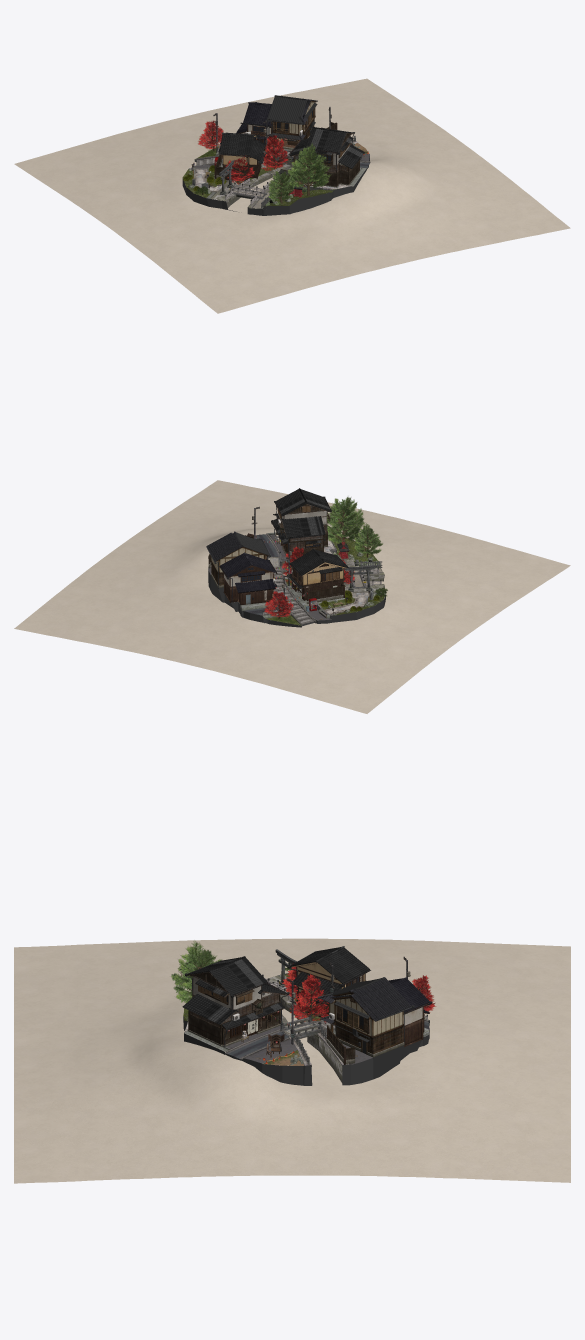
Rendered from kyoto.glb.
The picture shows the model from 3 angles, top to bottom: view 1: azimuth 30°, elevation 25°; view 2: azimuth 150°, elevation 25°; view 3: azimuth 270°, elevation 25°; orthographic projection. The views are drawn at different scales.
Visible parts, largest first — view 1: Sand, sm_houseBrewery, SM_cakeShop, SM_yakitoriRestaurant, SM_blackBox, tree, SM_house, SM_Maple02, tree003, SM_Maple01; view 2: Sand, sm_houseBrewery, SM_house, SM_yakitoriRestaurant, SM_cakeShop, tree, SM_blackBox, SM_Stairs, tree003, SM_Maple01, sm_houseBrewery_Material #25_0.001; view 3: Sand, sm_houseBrewery, SM_cakeShop, SM_blackBox, SM_yakitoriRestaurant, SM_house, tree, SM_Maple02, sm_houseBrewery_Material #25_0.001, sm_canalWall00.
Part boxes in pixels (box(x1,y1,x2,y2)): Sand: box(14, 78, 570, 313); sm_houseBrewery: box(288, 127, 364, 187); SM_cakeShop: box(266, 95, 317, 149); SM_yakitoriRestaurant: box(218, 132, 265, 180); SM_blackBox: box(182, 156, 369, 215); tree: box(287, 143, 331, 195); SM_house: box(236, 102, 271, 150); SM_Maple02: box(262, 135, 288, 169); tree003: box(268, 171, 294, 203); SM_Maple01: box(198, 120, 223, 151); Sand: box(14, 480, 570, 713); sm_houseBrewery: box(271, 488, 331, 557); SM_house: box(219, 552, 277, 605); SM_yakitoriRestaurant: box(287, 548, 348, 600); SM_cakeShop: box(206, 531, 270, 588); tree: box(327, 497, 365, 543); SM_blackBox: box(208, 534, 385, 627); SM_Stairs: box(273, 566, 315, 625); tree003: box(354, 523, 382, 557); SM_Maple01: box(264, 591, 293, 618); sm_houseBrewery_Material #25_0.001: box(274, 503, 330, 550); Sand: box(14, 938, 570, 1183); sm_houseBrewery: box(182, 956, 289, 1046); SM_cakeShop: box(317, 977, 414, 1057); SM_blackBox: box(183, 973, 429, 1085); SM_yakitoriRestaurant: box(287, 946, 370, 1017); SM_house: box(388, 976, 432, 1046); tree: box(171, 940, 221, 1002); SM_Maple02: box(289, 974, 328, 1021); sm_houseBrewery_Material #25_0.001: box(186, 971, 286, 1027); sm_canalWall00: box(280, 999, 346, 1082).
Bounding box in the file's own units: 32.95 × 22.67 × 32.95.
Materials: 68 (57 with a texture image).
